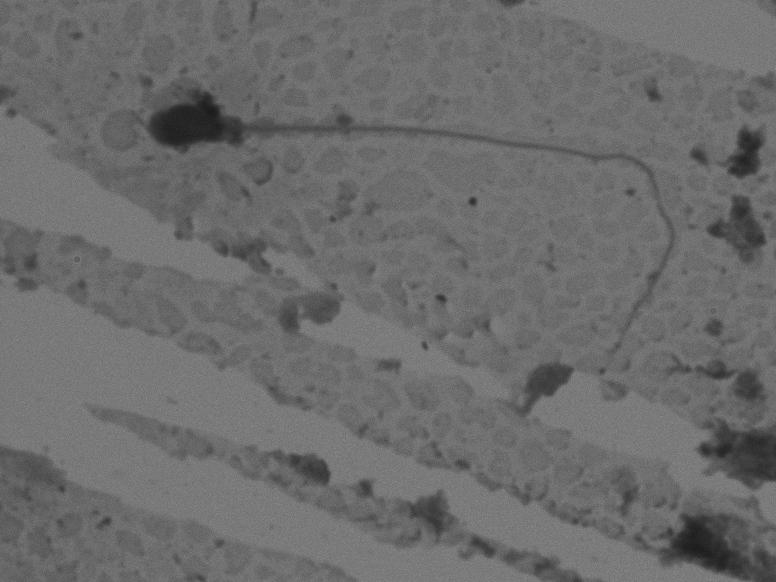Abnormal: (139, 43, 676, 361)
